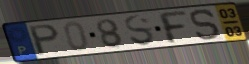0: (62, 20, 91, 54)
8: (95, 19, 125, 49)
F: (155, 10, 190, 46)
P: (28, 23, 61, 58)
S: (123, 14, 157, 48), (189, 8, 224, 41)
